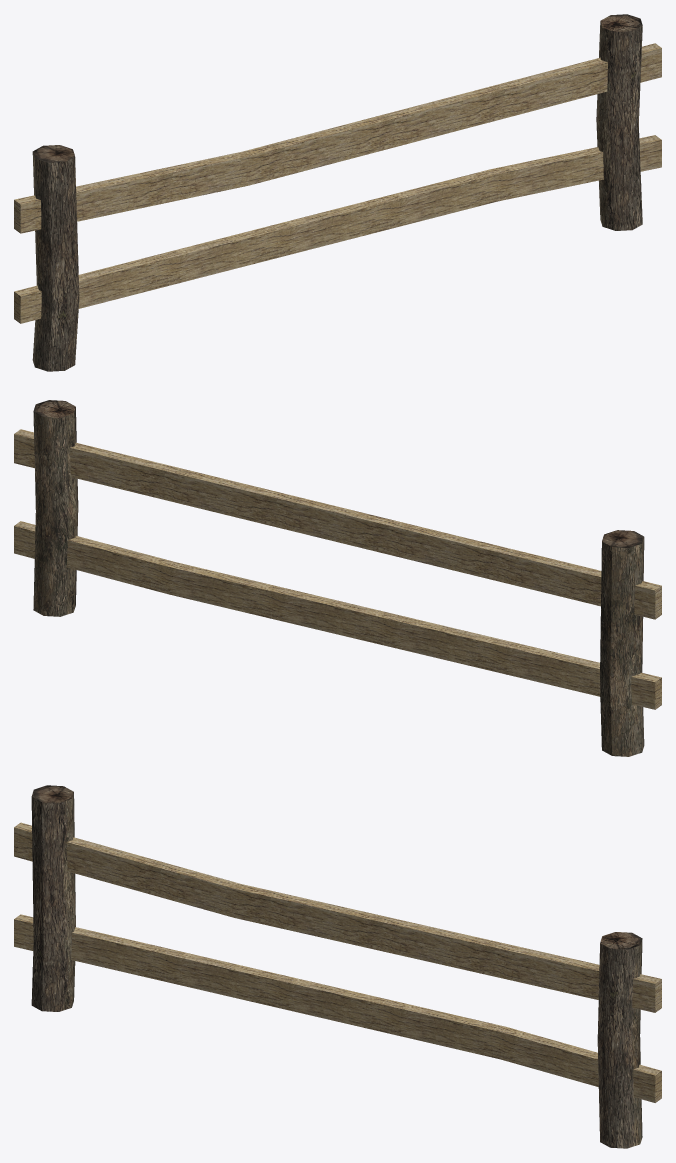
The model's file is woodenFence04.FBX.
3 renders of one model, top to bottom at view 1: azimuth 30°, elevation 25°; view 2: azimuth 150°, elevation 25°; view 3: azimuth 330°, elevation 25°, orthographic.
Visible parts, largest first — view 1: wooden_fence_large_2poles; view 2: wooden_fence_large_2poles; view 3: wooden_fence_large_2poles.
Part boxes in pixels (x1,y1,x2,y2): wooden_fence_large_2poles: [14, 14, 661, 371]; wooden_fence_large_2poles: [14, 400, 661, 756]; wooden_fence_large_2poles: [14, 785, 661, 1148].
Size of the model in its own units: 482 by 150 by 31.63.
